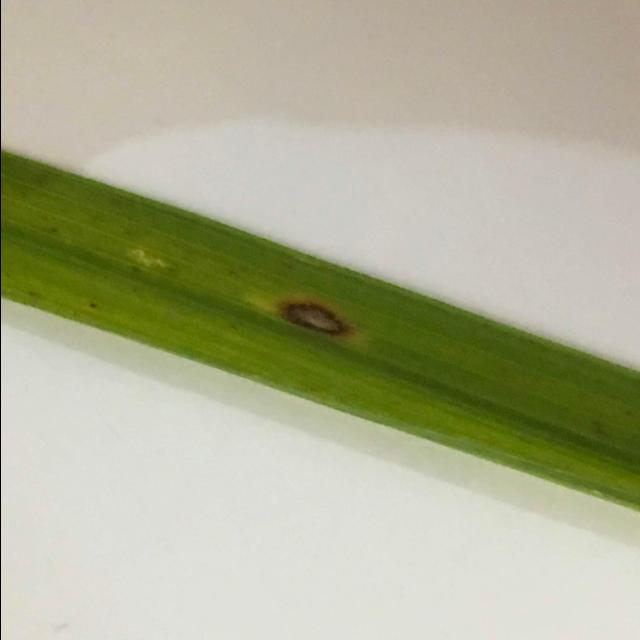Leaf blast: (0, 128, 640, 526)
